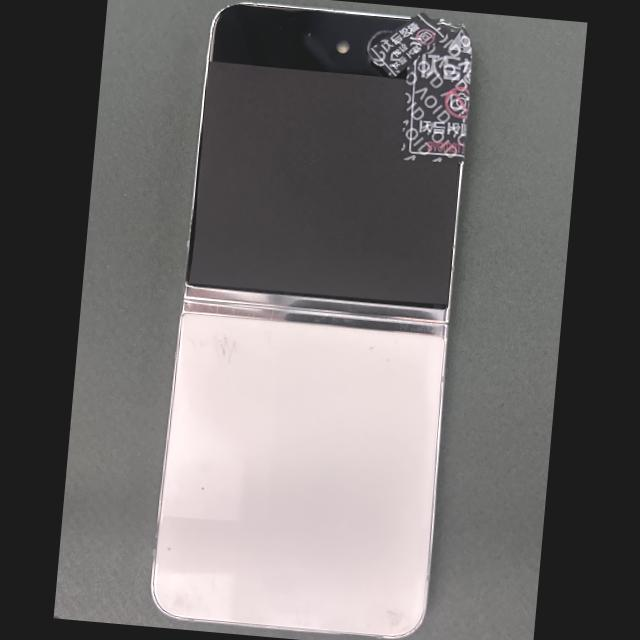lens: (367, 30, 390, 51)
phone: (151, 4, 470, 637)
sticker: (400, 16, 473, 165), (368, 11, 446, 78)
